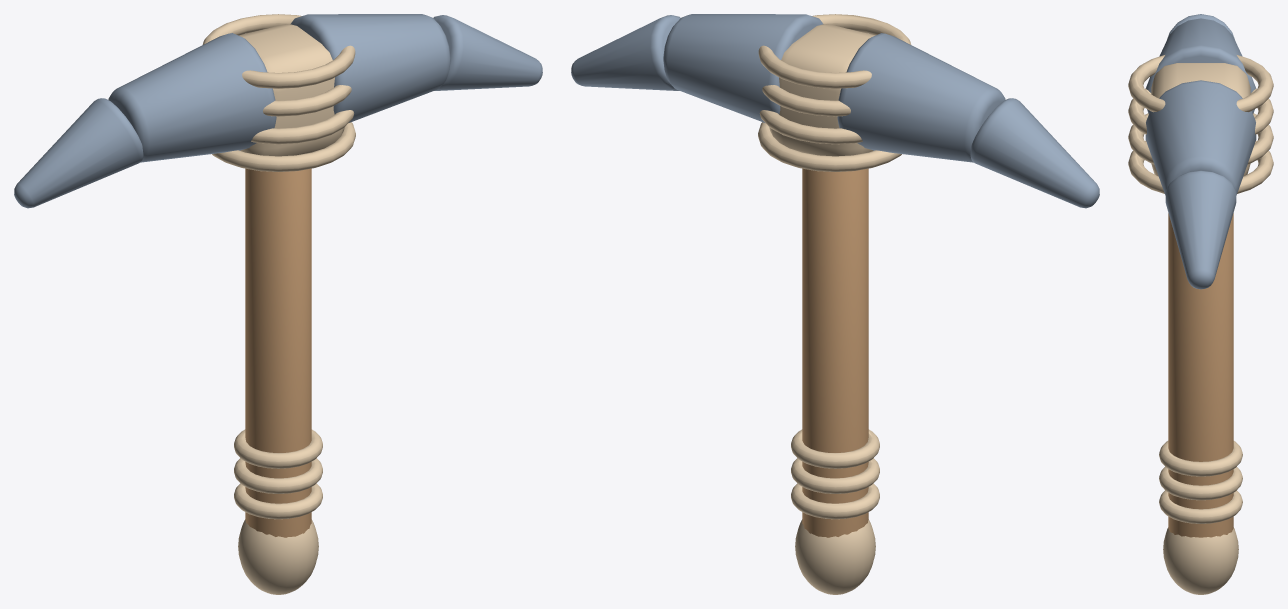
File: pickaxe_stone.glb
The picture shows the model from 3 angles, left to right: view 1: azimuth 30°, elevation 25°; view 2: azimuth 150°, elevation 25°; view 3: azimuth 270°, elevation 25°; orthographic projection. The views are drawn at different scales.
Parts seen in each view (by area): view 1: Handle.001, Inner pick.002, Inner pick.003, Curved pick tip.002, Head hub.001, Curved pick tip.003, Rounded grip end.001, Head rope binding.003, Head rope binding, Grip wrap.005, Grip wrap.004, Grip wrap.003 (+2 smaller); view 2: Handle.001, Inner pick.002, Inner pick.003, Curved pick tip.002, Head hub.001, Curved pick tip.003, Rounded grip end.001, Head rope binding.003, Head rope binding, Grip wrap.005, Grip wrap.004, Grip wrap.003 (+2 smaller); view 3: Handle.001, Inner pick.003, Curved pick tip.003, Rounded grip end.001, Inner pick.002, Head hub.001, Head rope binding.003, Grip wrap.005, Grip wrap.004, Grip wrap.003, Head rope binding, Head rope binding.001 (+2 smaller).
Part boxes in pixels (box(x1,y1,x2,y2)): Handle.001: box(245, 168, 311, 537); Inner pick.002: box(108, 33, 276, 162); Inner pick.003: box(290, 14, 450, 122); Curved pick tip.002: box(14, 98, 143, 208); Head hub.001: box(238, 24, 344, 156); Curved pick tip.003: box(433, 15, 542, 90); Rounded grip end.001: box(238, 519, 318, 594); Head rope binding.003: box(202, 14, 355, 88); Head rope binding: box(212, 122, 355, 171); Grip wrap.005: box(234, 429, 322, 468); Grip wrap.004: box(234, 458, 322, 493); Grip wrap.003: box(234, 483, 322, 519); Handle.001: box(802, 168, 868, 537); Inner pick.002: box(837, 33, 1005, 162); Inner pick.003: box(663, 14, 823, 122); Curved pick tip.002: box(970, 98, 1099, 208); Head hub.001: box(769, 24, 875, 156); Curved pick tip.003: box(571, 15, 680, 90); Rounded grip end.001: box(795, 519, 875, 594); Head rope binding.003: box(758, 14, 911, 88); Head rope binding: box(758, 122, 901, 171); Grip wrap.005: box(791, 429, 879, 468); Grip wrap.004: box(791, 458, 879, 493); Grip wrap.003: box(791, 483, 879, 519); Handle.001: box(1168, 213, 1233, 537); Inner pick.003: box(1145, 80, 1256, 195); Curved pick tip.003: box(1165, 170, 1236, 289); Rounded grip end.001: box(1163, 527, 1238, 594); Inner pick.002: box(1146, 18, 1255, 113); Head hub.001: box(1151, 63, 1250, 176); Head rope binding.003: box(1128, 55, 1273, 112); Grip wrap.005: box(1159, 441, 1242, 476); Grip wrap.004: box(1159, 467, 1242, 500); Grip wrap.003: box(1159, 490, 1242, 523); Head rope binding: box(1128, 140, 1273, 193); Head rope binding.001: box(1128, 113, 1273, 164).
Bounding box in the file's own units: 2.17 × 2.23 × 0.5564.
